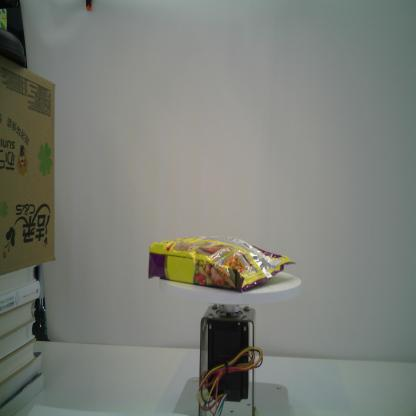Instant Noodles: (147, 235, 297, 293)
